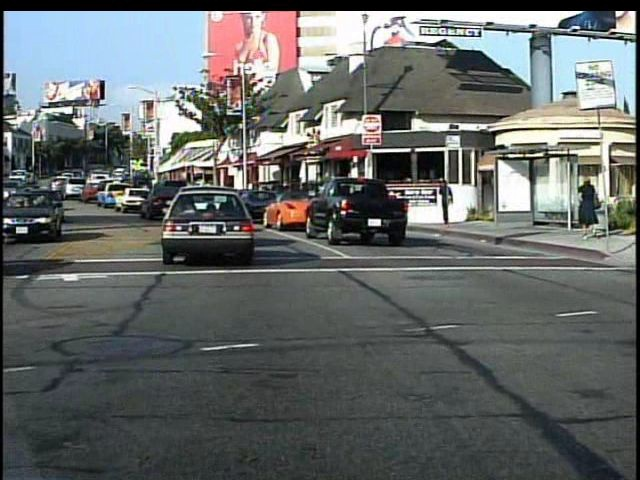person: (574, 171, 603, 243), (436, 182, 453, 233)
